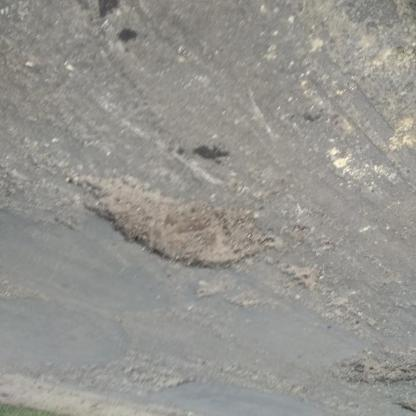pothole: (73, 174, 275, 275), (336, 356, 416, 389), (123, 370, 193, 392)
